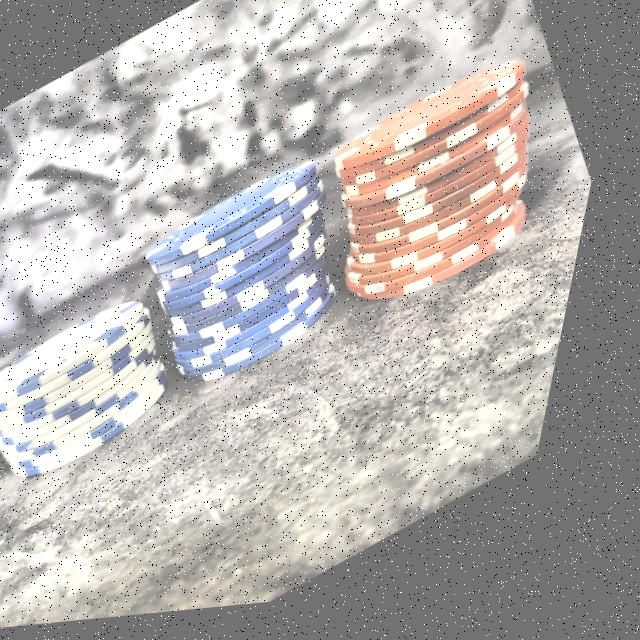Chip: (266, 19, 629, 361), (110, 129, 420, 430), (0, 265, 228, 516)
